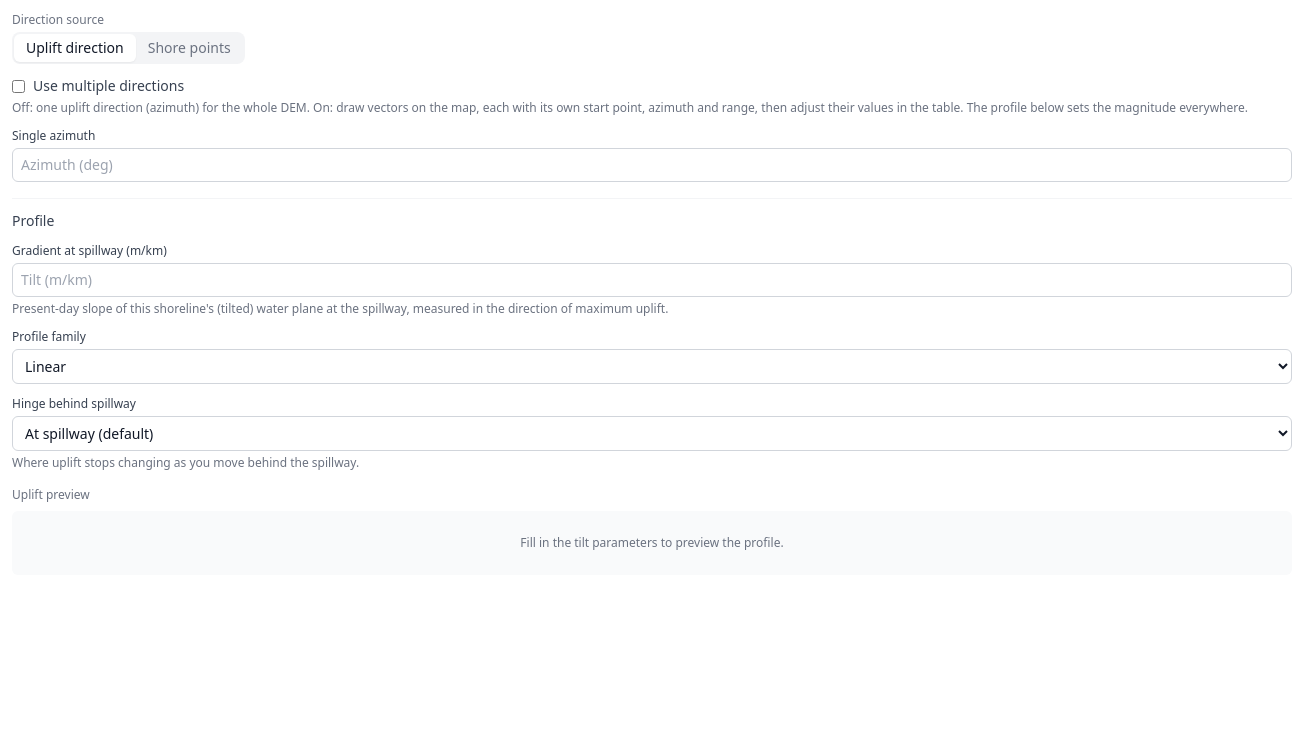
Scenario: multiple directions › unchecking returns to the single azimuth and keeps the typed azimuth, gradient and drawn vectors
In the number field labelled "Single azimuth": (652, 165) x1=12 y1=148 x2=1292 y2=182, type "45"
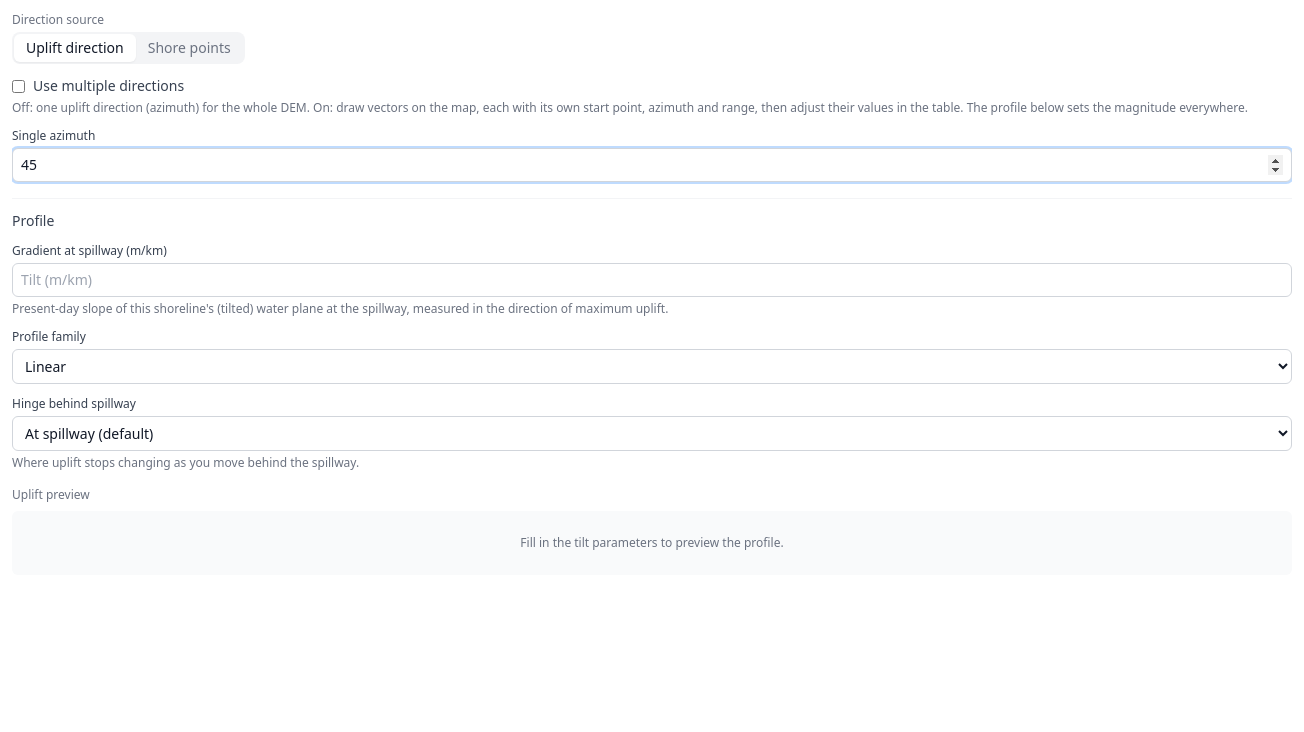
In the number field labelled "Gradient at spillway (m/km)": (652, 280) x1=12 y1=263 x2=1292 y2=297, type "0.35"
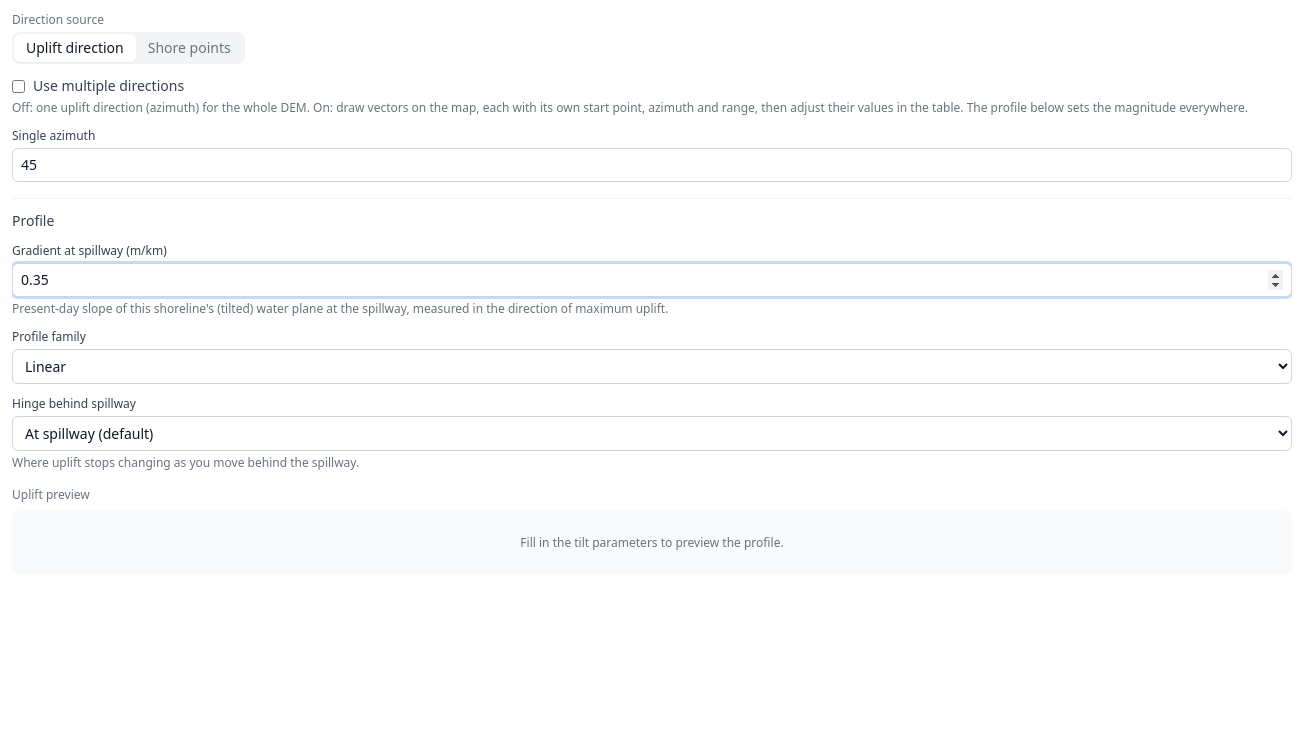
Click the checkbox labelled "Use multiple directions": (18, 86) x1=12 y1=80 x2=25 y2=92
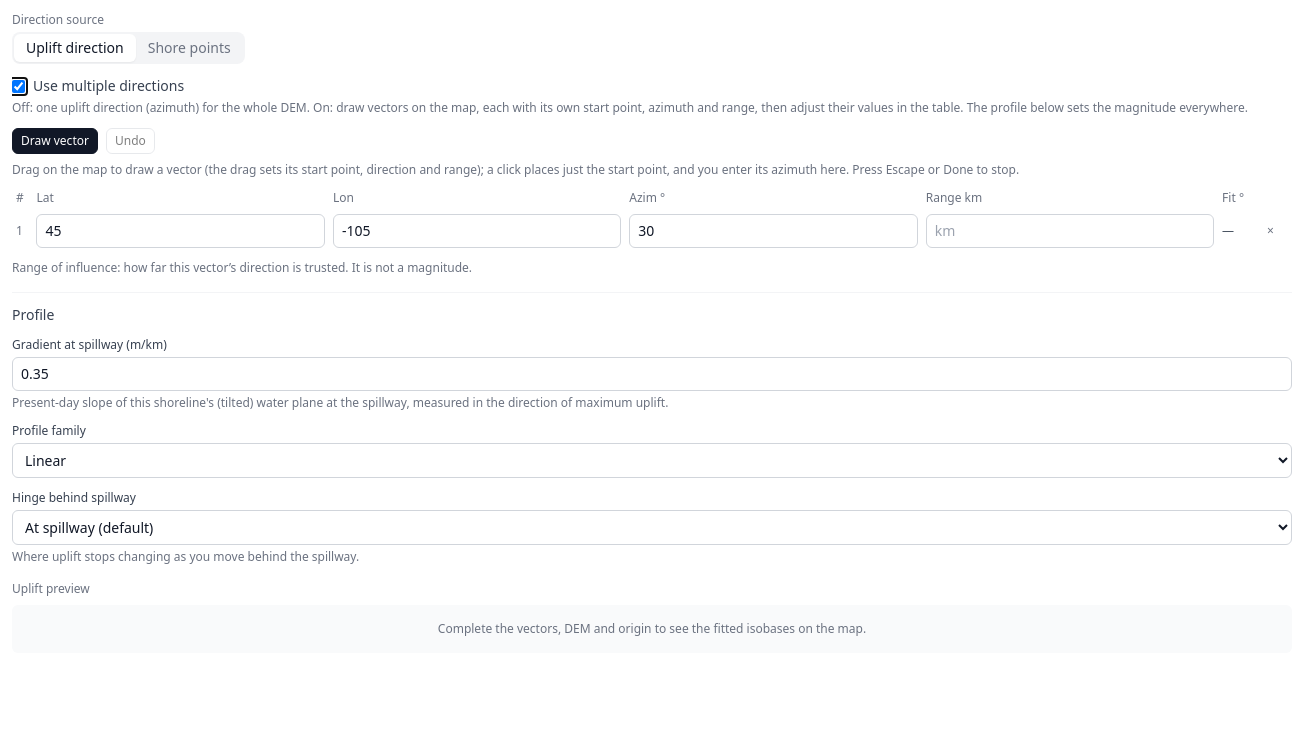
Click the checkbox labelled "Use multiple directions": (18, 86) x1=12 y1=80 x2=25 y2=92
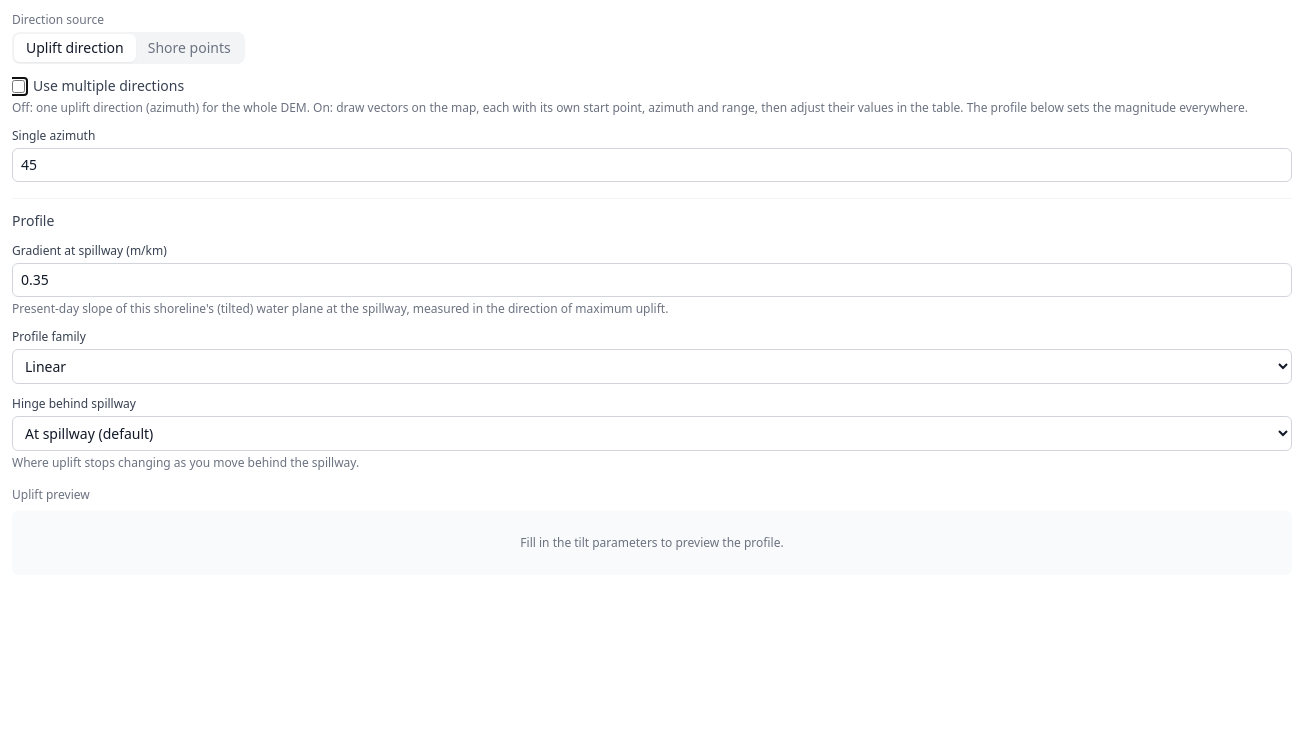
Expected: the number field labelled "Single azimuth" holds "45", x1=12 y1=148 x2=1292 y2=182
